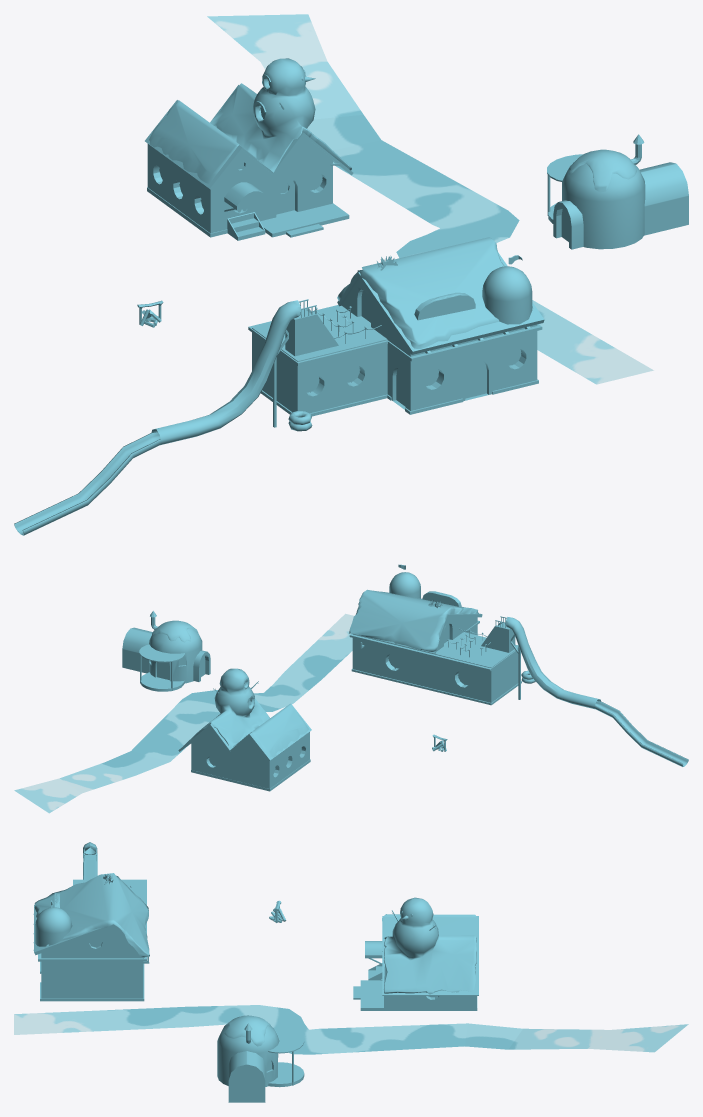
The model's file is Neighborhood_PudgyPortLocked.fbx.
The picture shows the model from 3 angles, top to bottom: view 1: azimuth 30°, elevation 25°; view 2: azimuth 150°, elevation 25°; view 3: azimuth 270°, elevation 25°; orthographic projection. The views are drawn at different scales.
Visible parts, largest first — view 1: Neighborhood_PudgyPortLocked_PudgyPort1_group2_pasted__polyS, Object_PudgyPortRoad; view 2: Neighborhood_PudgyPortLocked_PudgyPort1_group2_pasted__polyS, Object_PudgyPortRoad; view 3: Neighborhood_PudgyPortLocked_PudgyPort1_group2_pasted__polyS, Object_PudgyPortRoad.
Boxes of the visible parts, x1,y1,x2,y2 form: Neighborhood_PudgyPortLocked_PudgyPort1_group2_pasted__polyS: (14,58,688,535); Object_PudgyPortRoad: (207,14,653,384); Neighborhood_PudgyPortLocked_PudgyPort1_group2_pasted__polyS: (122,564,688,791); Object_PudgyPortRoad: (14,613,353,813); Neighborhood_PudgyPortLocked_PudgyPort1_group2_pasted__polyS: (33,842,478,1102); Object_PudgyPortRoad: (14,1005,688,1054).
Size of the model in its own units: 3893 by 951 by 4023.
